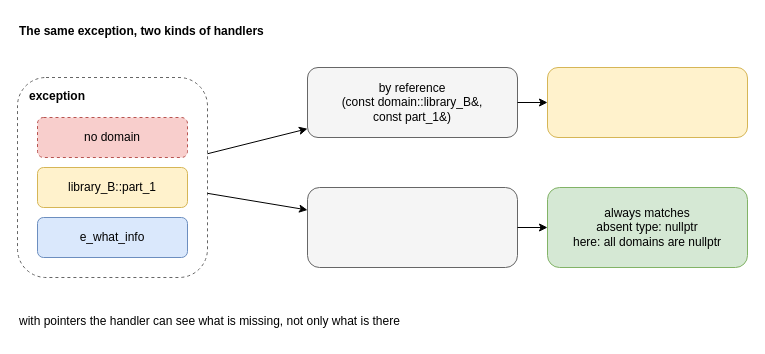
Some shapes in this 765 by 354 pixel diagram are drawn without their labels. Each missing label, with the centre of its shape:
by pointer (const domain::library_A*, const domain::library_B*, ...): pixel 412 227
matches only if all the types are present here: does not match: pixel 647 102
